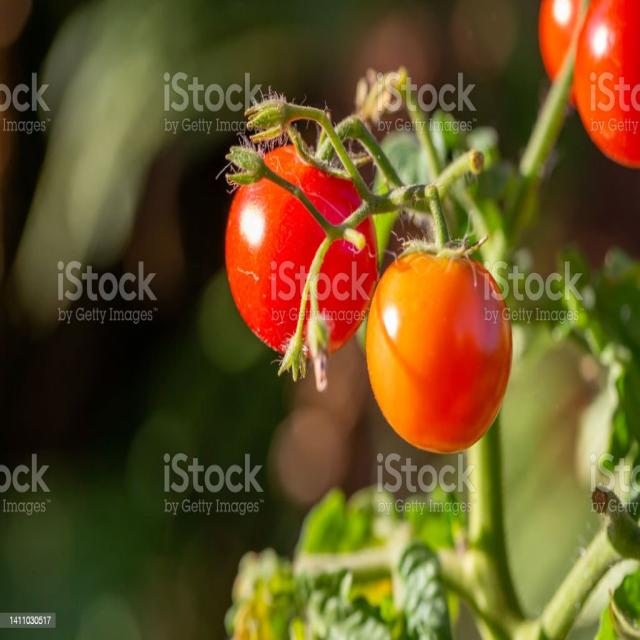level 5: (362, 238, 518, 461)
level 6: (220, 136, 388, 370), (573, 0, 640, 174), (534, 0, 604, 99)
